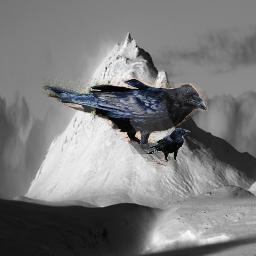Crow: (42, 78, 208, 166), (145, 128, 191, 164)
